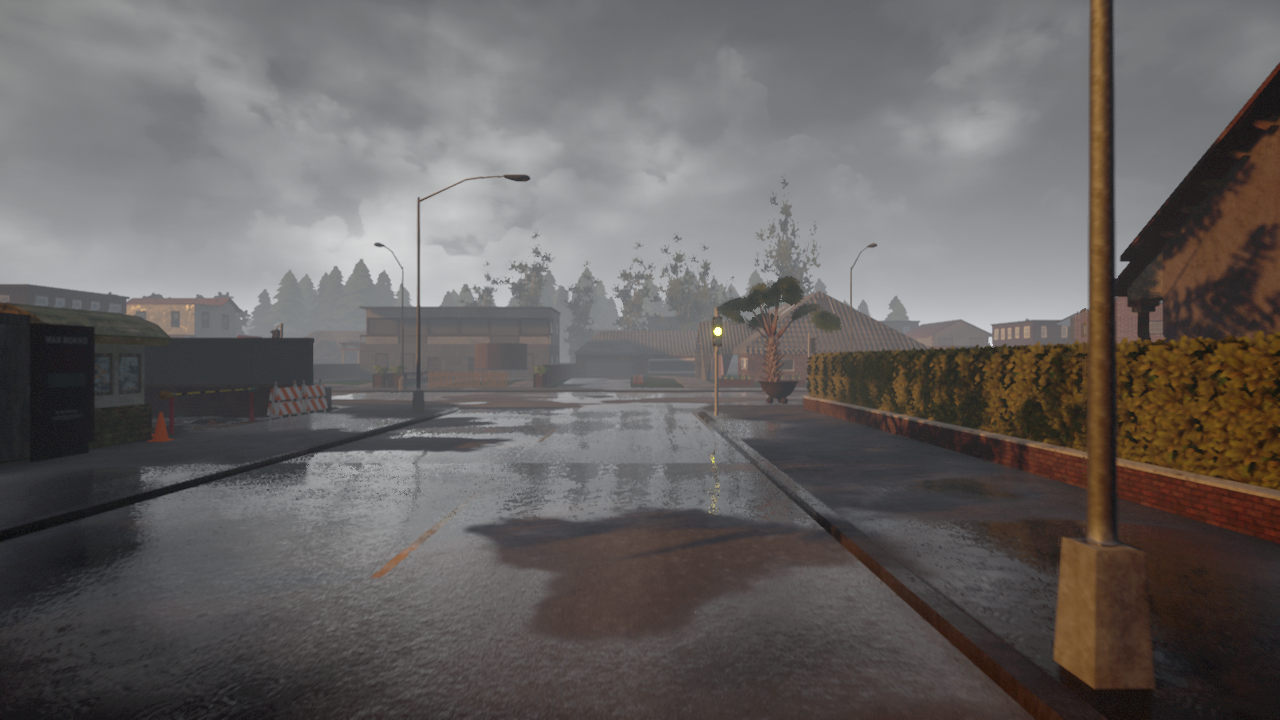yellow: (712, 314, 722, 346)
